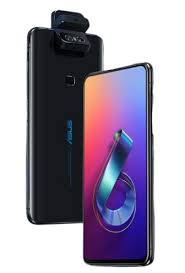asus: (24, 25, 104, 223), (80, 61, 156, 268)
